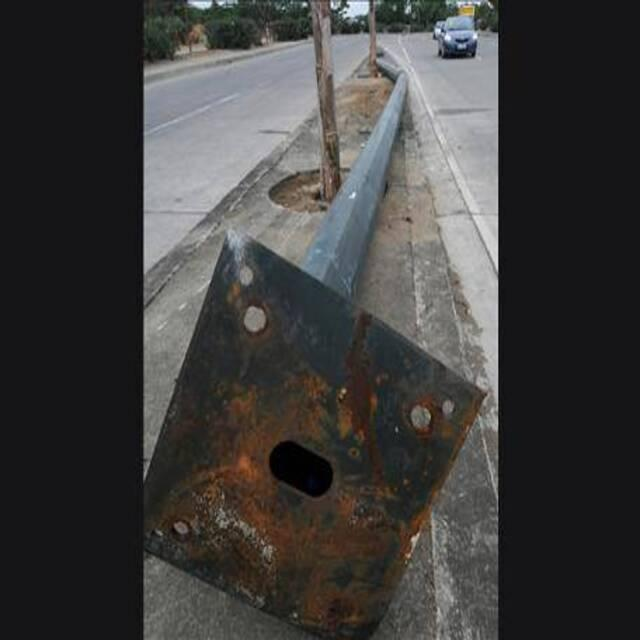Inclined Pole: (140, 48, 486, 640)
